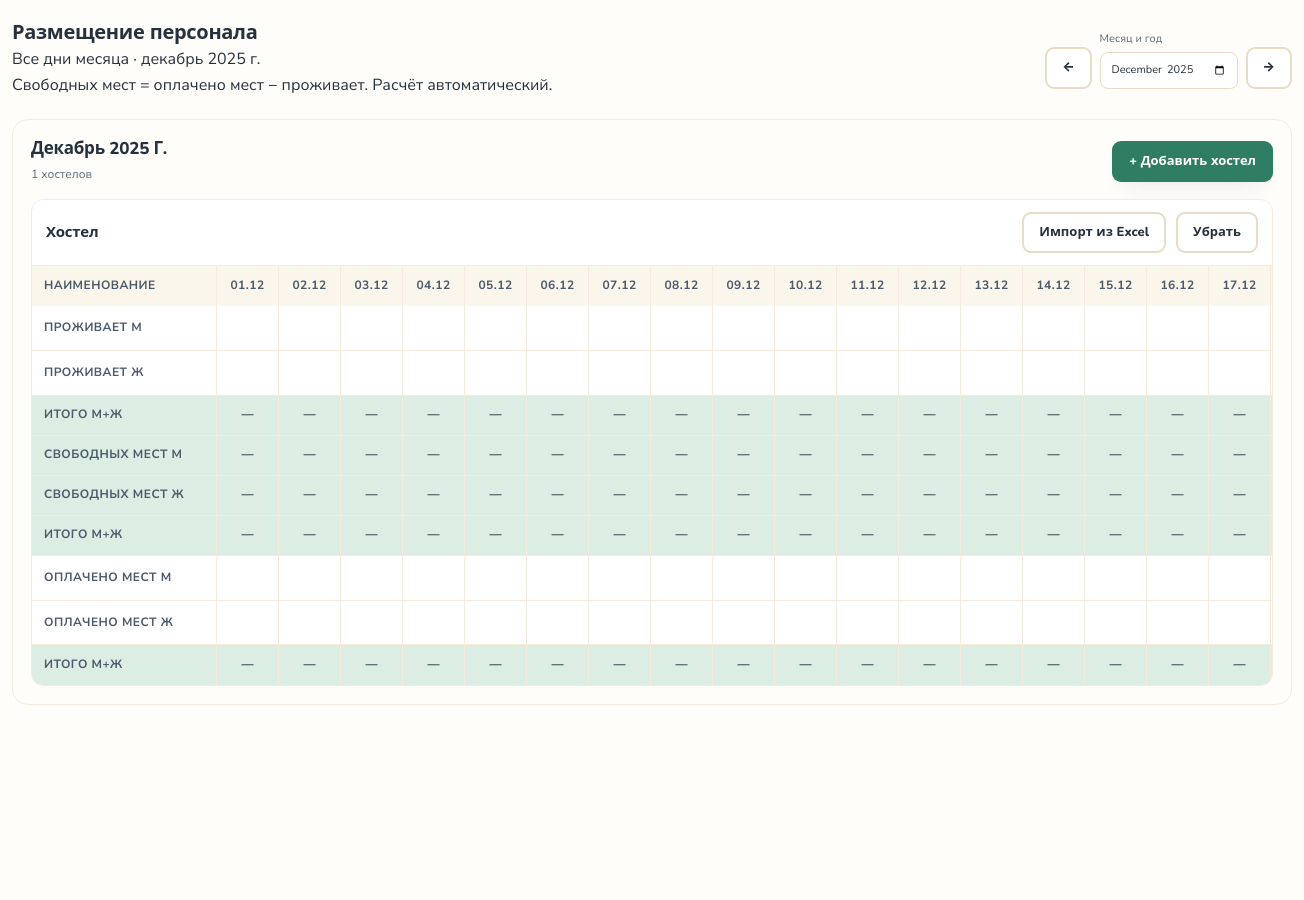
Размещение персонала › показывает весь месяц, включая високосный февраль и переход на новый год
expect the element with test id "hostel-1-2025-12-01" is shown: met, box [31, 199, 1273, 686]
Click the button named "Следующий месяц" at {"x": 1269, "y": 68}, box [1246, 47, 1292, 88]
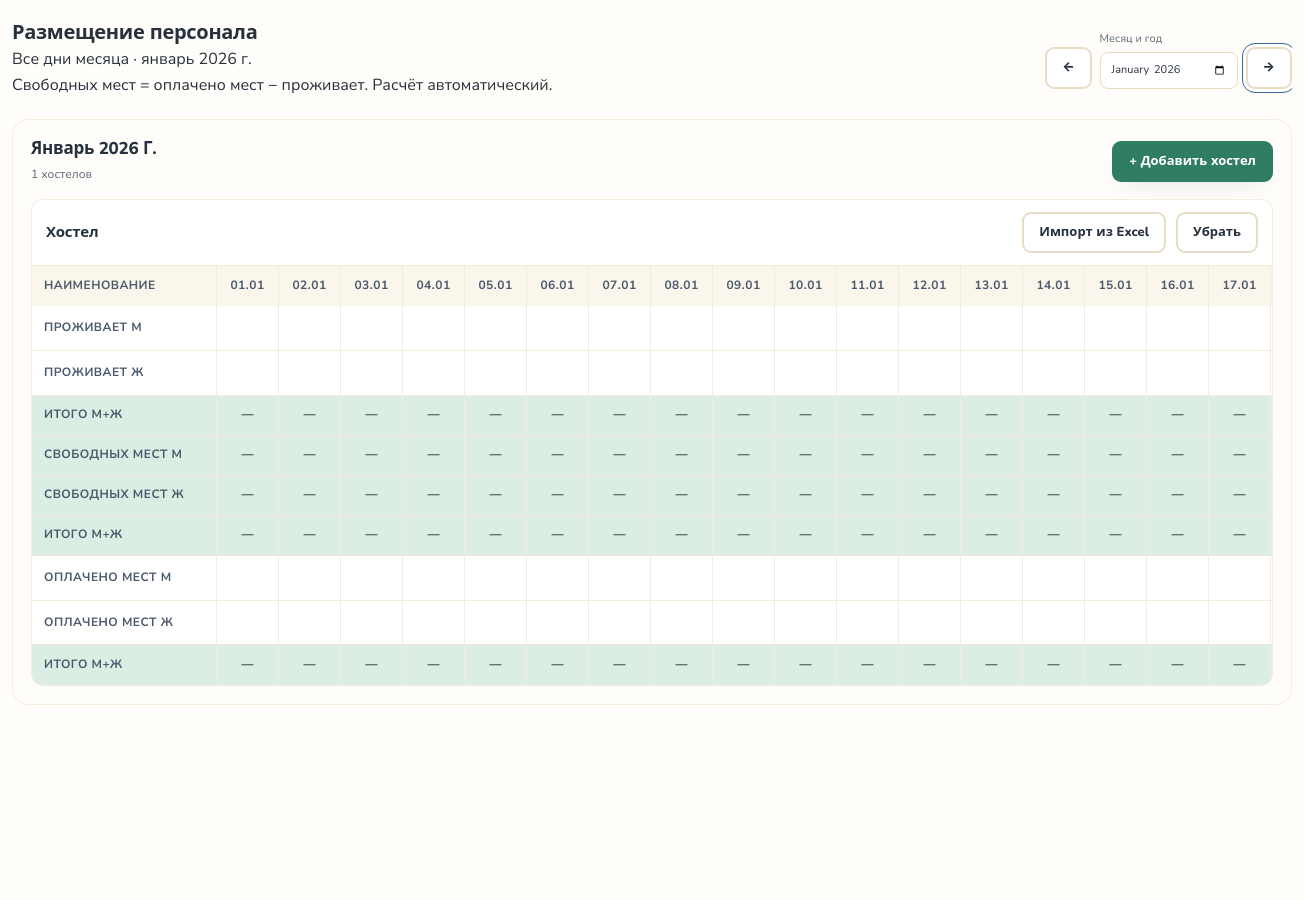
expect the element with test id "hostel-1-2026-01-01" is shown: met, box [31, 199, 1273, 686]
expect the field labelled "Месяц и год" holds "2026-01": met
Replace the text in the field labelled "Месяц и год" with "2024-02" at {"x": 1169, "y": 70}, box [1100, 52, 1238, 88]
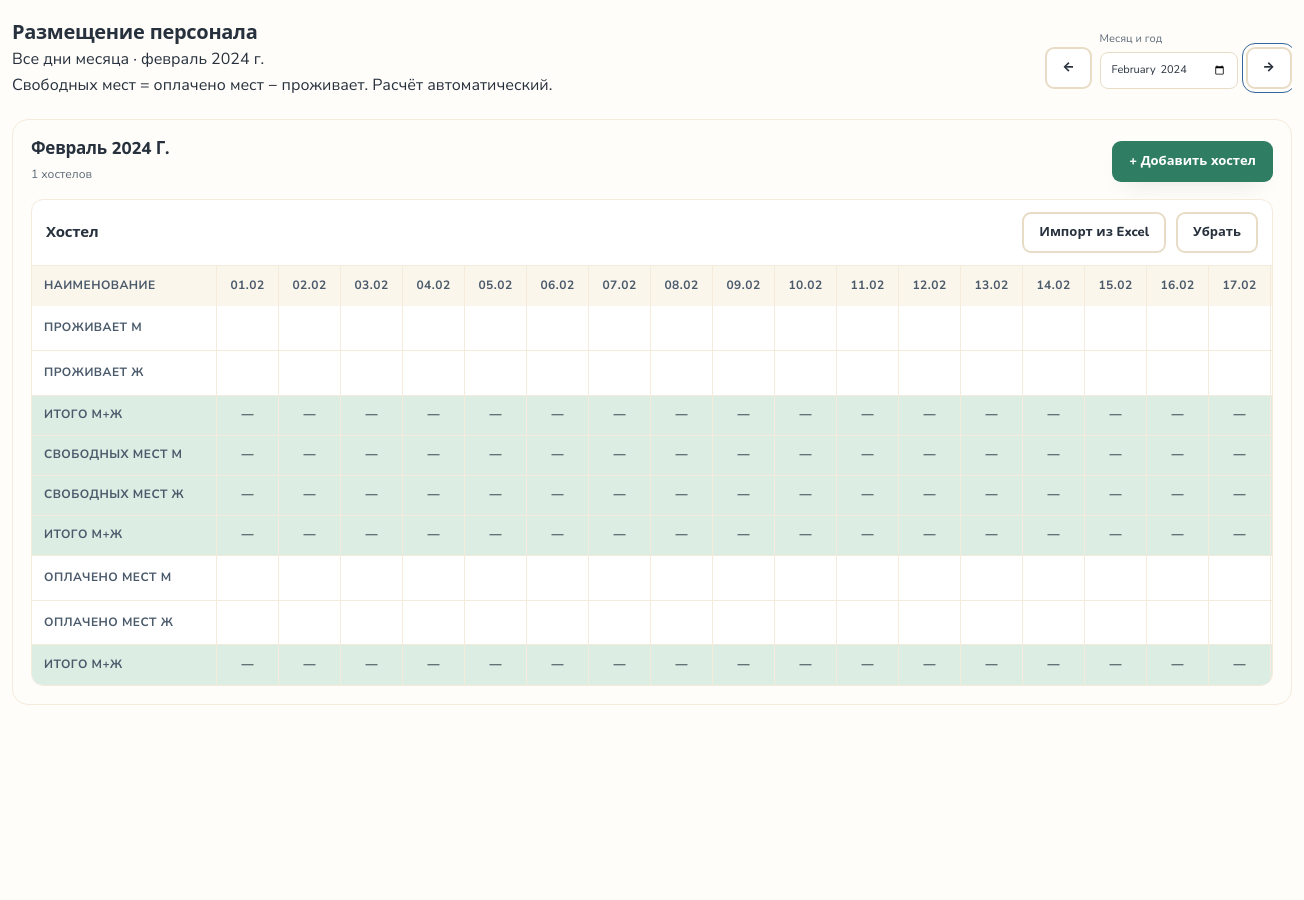
expect the element with test id "hostel-1-2024-02-01" is shown: met, box [31, 199, 1273, 686]
